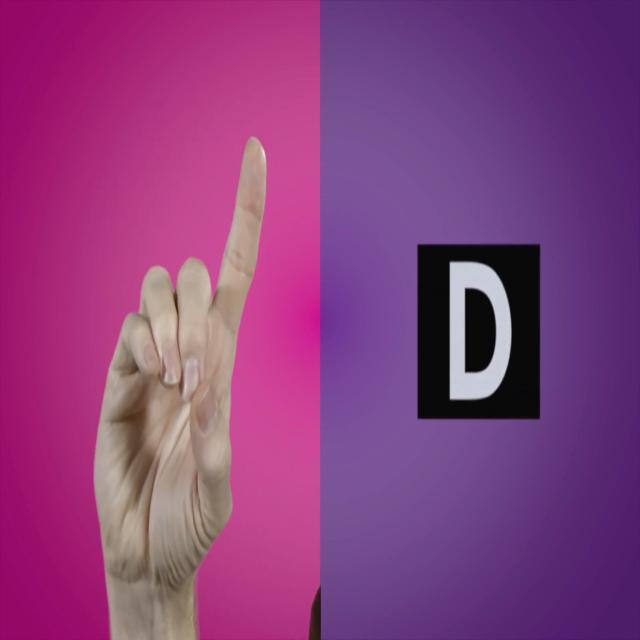D: (59, 111, 291, 632)
